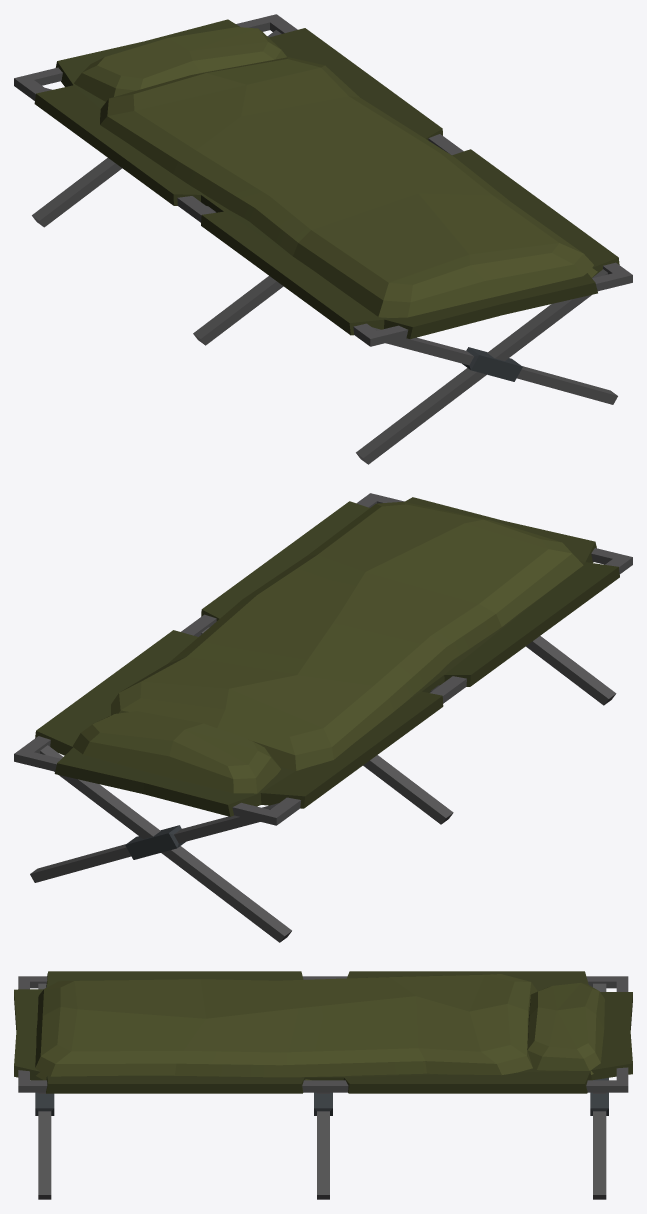
The model's file is SM_Prop_Bed_Stretcher_02.glb.
3 views of the same model, one above another, from view 1: azimuth 30°, elevation 25°; view 2: azimuth 150°, elevation 25°; view 3: azimuth 270°, elevation 25° (orthographic). The views are drawn at different scales.
Visible parts, largest first — view 1: SM_Prop_Bed_Stretcher_02; view 2: SM_Prop_Bed_Stretcher_02; view 3: SM_Prop_Bed_Stretcher_02.
Part boxes in pixels (x1,y1,x2,y2): SM_Prop_Bed_Stretcher_02: (14, 14, 632, 464); SM_Prop_Bed_Stretcher_02: (14, 493, 632, 942); SM_Prop_Bed_Stretcher_02: (14, 971, 632, 1199).
Size of the model in its own units: 1.04 by 0.6072 by 2.43.
Materials: 1 (1 with a texture image).
